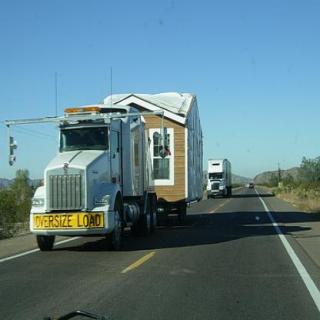Normal_vehicle: (26, 97, 156, 240)
